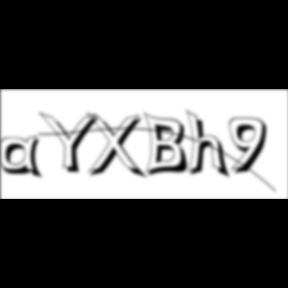9: (228, 117, 274, 177)
B: (144, 111, 194, 179)
X: (86, 112, 150, 182)
Y: (38, 110, 104, 176)
a: (0, 135, 48, 182)
h: (186, 108, 232, 182)
